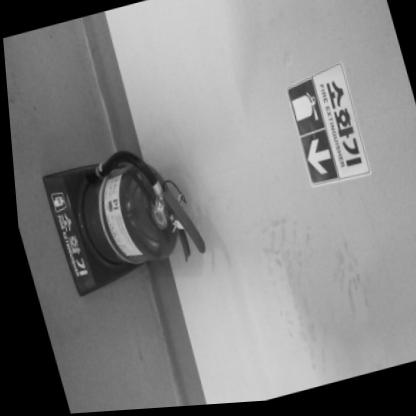FE: (36, 139, 206, 297)
